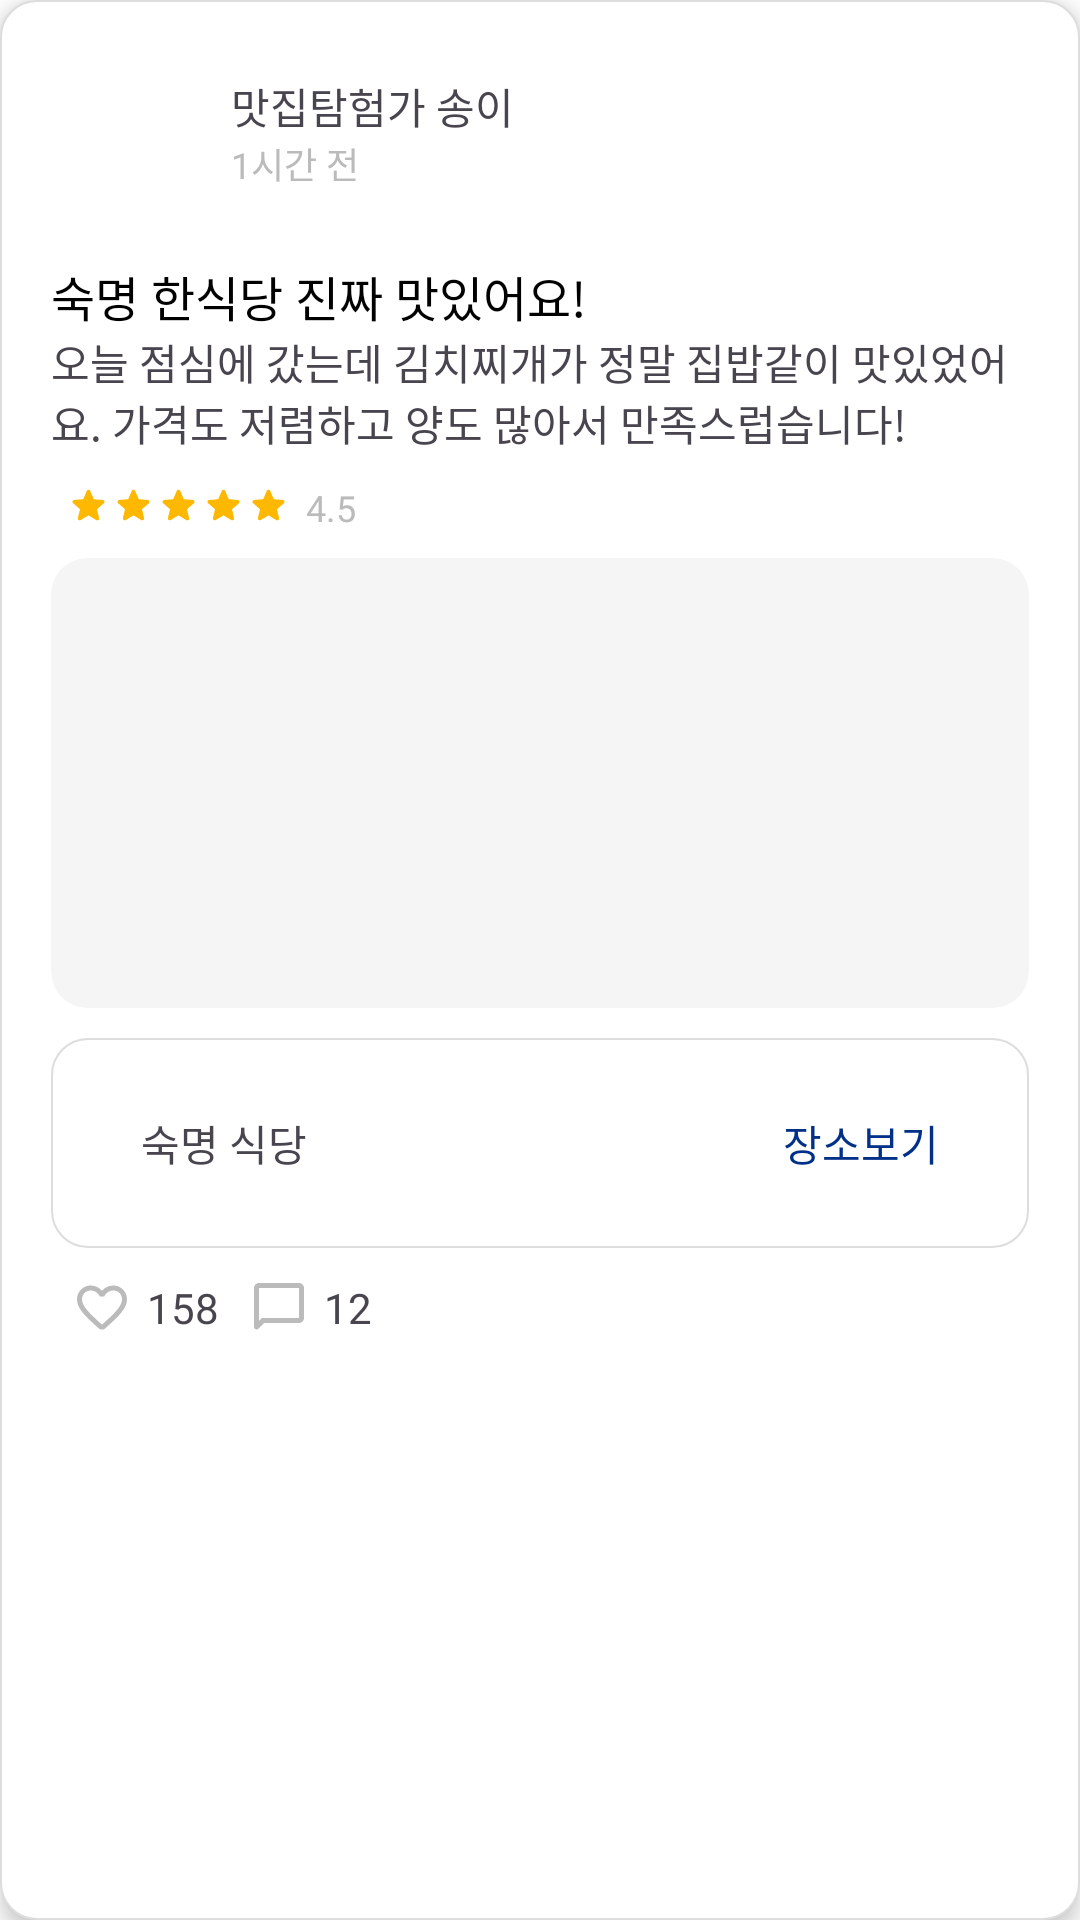

Named icons in this screenshot (1080px×1920px) and their bounding boxes, (x1, y1, x2, y2):
favorite: (77, 1285, 127, 1330)
star: (72, 489, 105, 521), (117, 489, 150, 521), (162, 489, 195, 521), (207, 489, 240, 521), (252, 489, 285, 521)
